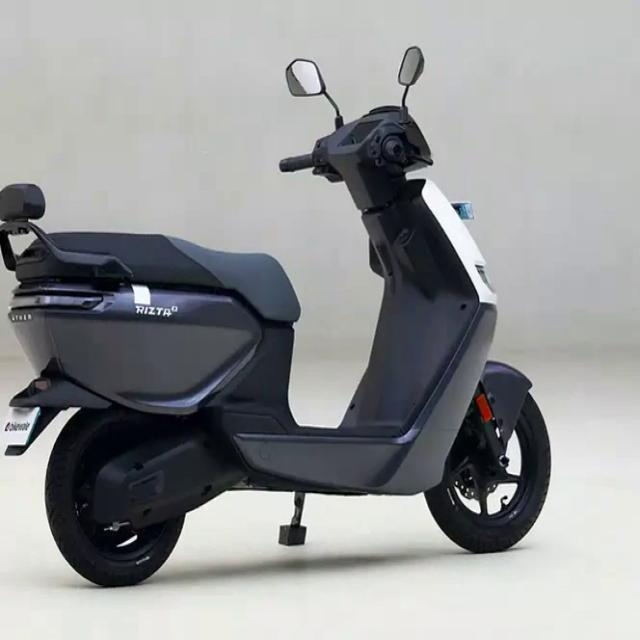objects: (1, 30, 560, 601)
